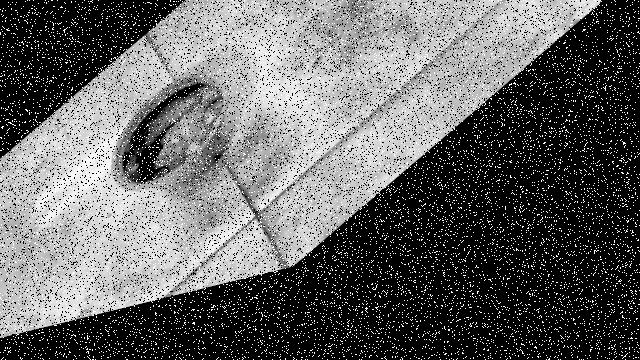pot: (111, 72, 234, 189)
